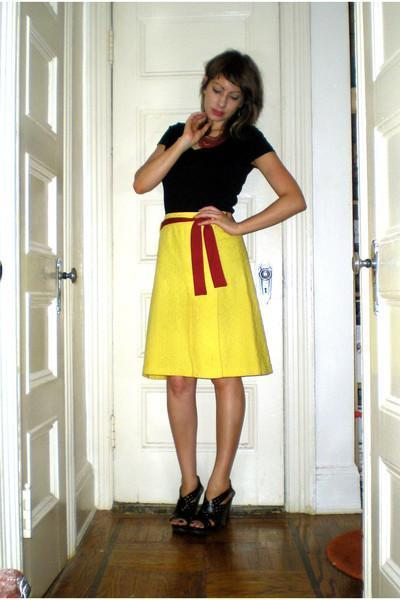shirt: (159, 121, 272, 227)
shoe: (173, 480, 234, 523)
skirt: (142, 208, 272, 379)
